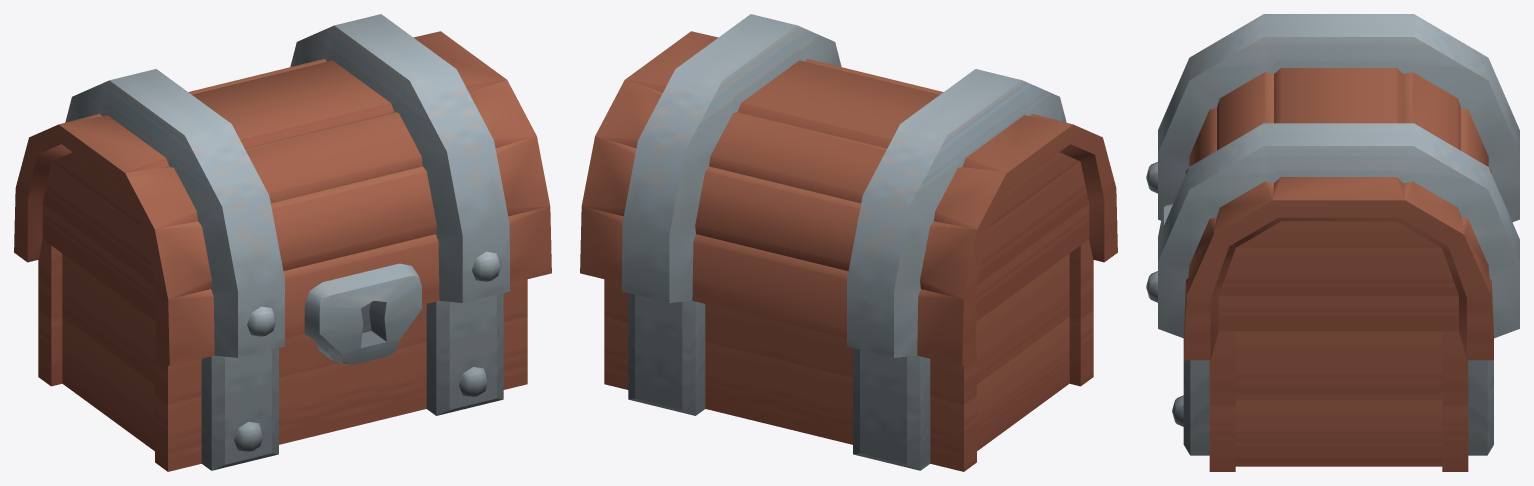
The model's file is chest_gold.glb.
3 renders of one model, left to right at view 1: azimuth 30°, elevation 25°; view 2: azimuth 150°, elevation 25°; view 3: azimuth 270°, elevation 25°, orthographic.
Visible parts, largest first — view 1: chest_gold_lid, chest_gold; view 2: chest_gold_lid, chest_gold; view 3: chest_gold_lid, chest_gold.
Part boxes in pixels (x1,y1,x2,y2): chest_gold_lid: [14, 14, 551, 366]; chest_gold: [38, 239, 527, 471]; chest_gold_lid: [580, 14, 1117, 366]; chest_gold: [604, 239, 1093, 471]; chest_gold_lid: [1146, 14, 1519, 360]; chest_gold: [1172, 331, 1493, 471].
Size of the model in its own units: 1.7 by 1.3 by 1.45.
Materials: 1 (1 with a texture image).
